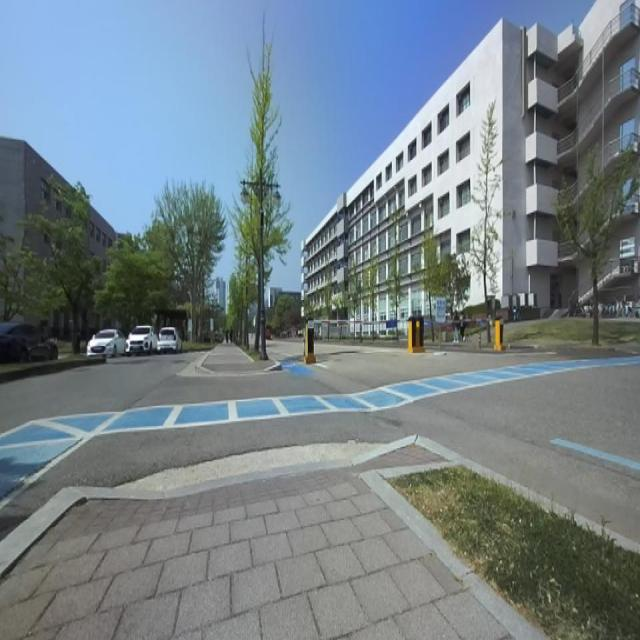sidewalk: (0, 468, 510, 639), (0, 460, 354, 579), (344, 436, 640, 556), (360, 462, 546, 640)
